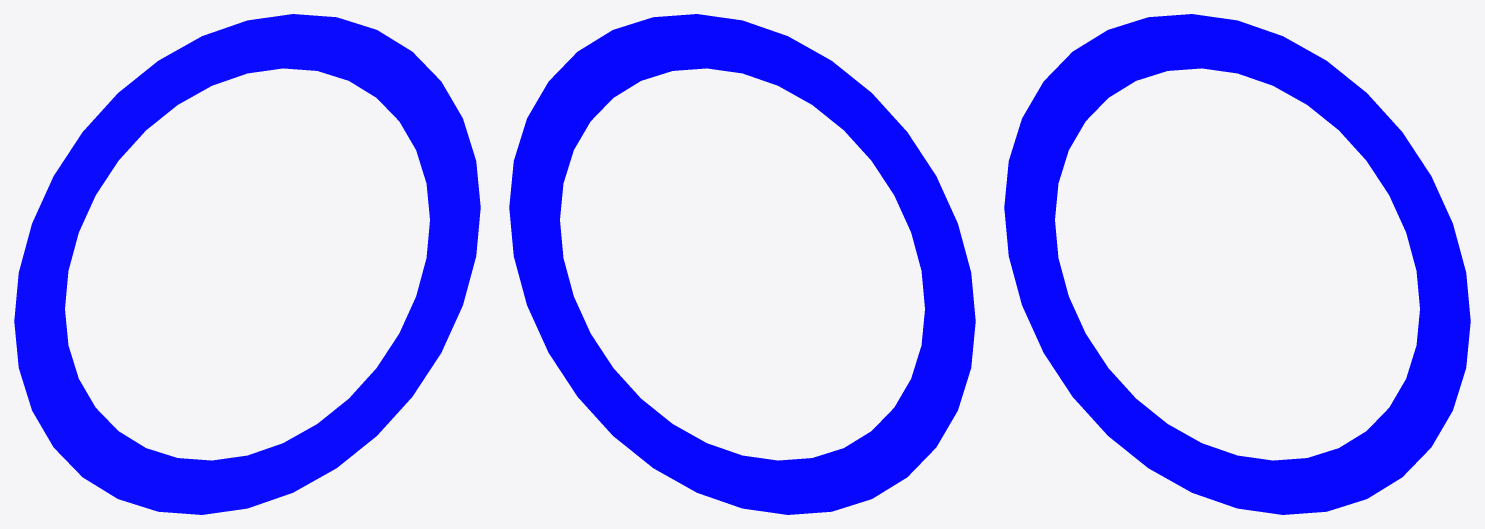
Rendered from s_emission.dae.
3 views of the same model, side by side, from view 1: azimuth 30°, elevation 25°; view 2: azimuth 150°, elevation 25°; view 3: azimuth 330°, elevation 25° (orthographic).
Size of the model in its own units: 46 by 46 by 0.
